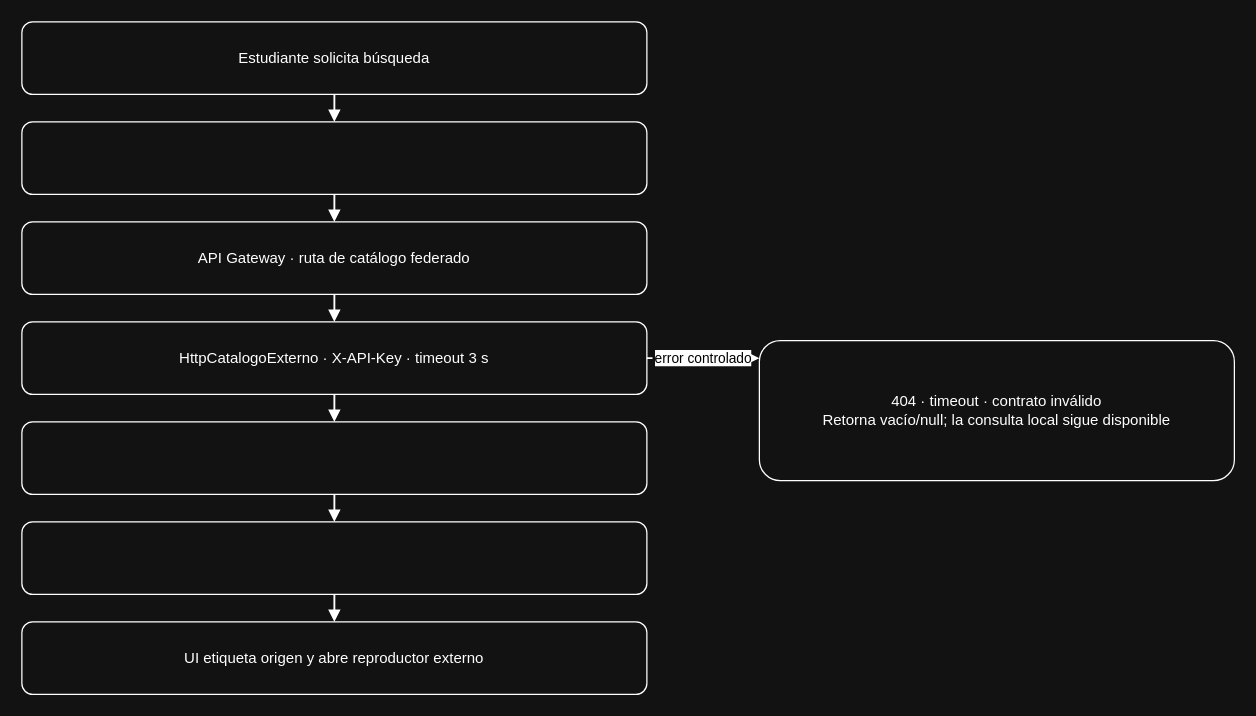
This 1256x716 diagram has some shape labels left out. Each missing label, with the centre of its shape:
"API G8 · GET /clases y GET /clases/{id}" goes at point (334, 457).
"Frontend combina catálogo local y federado" goes at point (334, 157).
"Validar esquema · mapear video, origen y capítulos" goes at point (334, 557).
